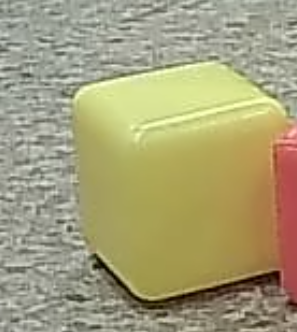yellow_cube: (66, 50, 294, 307)
